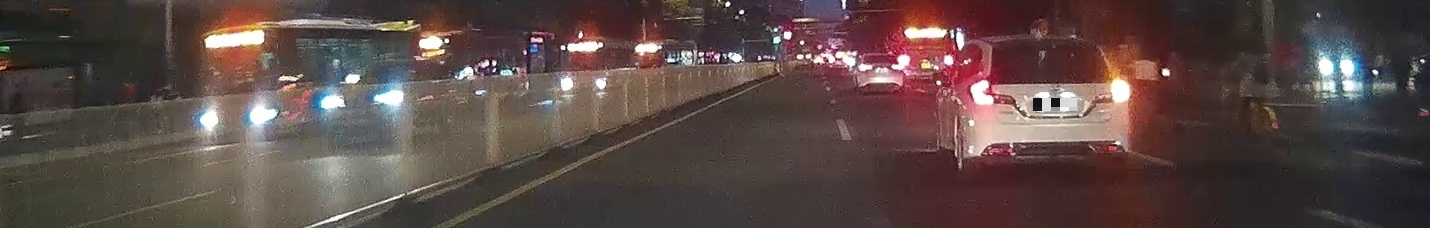L_light: (966, 77, 1016, 106)
R_light: (1089, 79, 1131, 105)
T_light: (1034, 38, 1058, 44)
night-no: (963, 33, 1132, 182)
plate_1: (1033, 98, 1077, 111)
